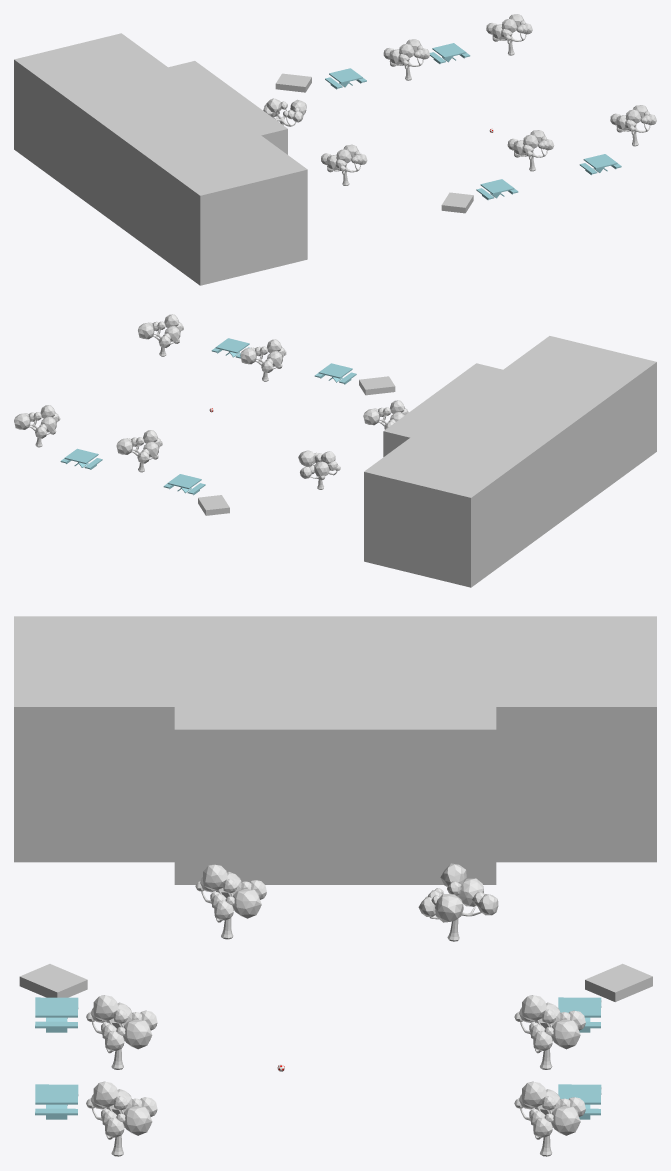
Rendered from StadV3.glb.
The picture shows the model from 3 angles, top to bottom: view 1: azimuth 30°, elevation 25°; view 2: azimuth 150°, elevation 25°; view 3: azimuth 270°, elevation 25°; orthographic projection. The views are drawn at different scales.
Visible parts, largest first — view 1: Plain.005, Tree.005, Tree.004, Tree.002, Tree.003, Tree.001, Tree, Plain.004, Plain.003; view 2: Plain.005, Tree, Tree.002, Tree.003, Tree.004, Tree.005, Tree.001, Plain.003, Plain.004; view 3: Plain.005, Tree, Tree.005, Tree.004, Tree.001, Tree.003, Tree.002, Plain.004, Plain.003, Plain.010, Plain.001, Plain.015 (+1 smaller).
Part boxes in pixels (x1,y1,x2,y2): Plain.005: (14, 33, 307, 285); Tree.005: (610, 105, 656, 146); Tree.004: (486, 14, 532, 55); Tree.002: (507, 130, 554, 171); Tree.003: (383, 39, 429, 80); Tree.001: (321, 144, 367, 185); Tree: (263, 98, 306, 126); Plain.004: (275, 73, 311, 92); Plain.003: (441, 192, 473, 213); Plain.005: (364, 336, 656, 587); Tree: (298, 450, 340, 489); Tree.002: (240, 339, 286, 381); Tree.003: (116, 430, 162, 472); Tree.004: (14, 405, 60, 447); Tree.005: (138, 314, 183, 356); Tree.001: (363, 400, 408, 429); Plain.003: (359, 376, 395, 395); Plain.004: (198, 495, 229, 515); Plain.005: (14, 616, 656, 884); Tree: (418, 863, 498, 941); Tree.005: (86, 1081, 157, 1156); Tree.004: (514, 1081, 585, 1156); Tree.001: (195, 864, 266, 939); Tree.003: (514, 995, 585, 1069); Tree.002: (86, 995, 157, 1069); Plain.004: (585, 963, 652, 1001); Plain.003: (19, 964, 87, 997); Plain.010: (35, 1084, 78, 1108); Plain.001: (35, 997, 78, 1021); Plain.015: (558, 997, 601, 1021).
Size of the model in its own units: 90.07 by 16 by 59.99.
